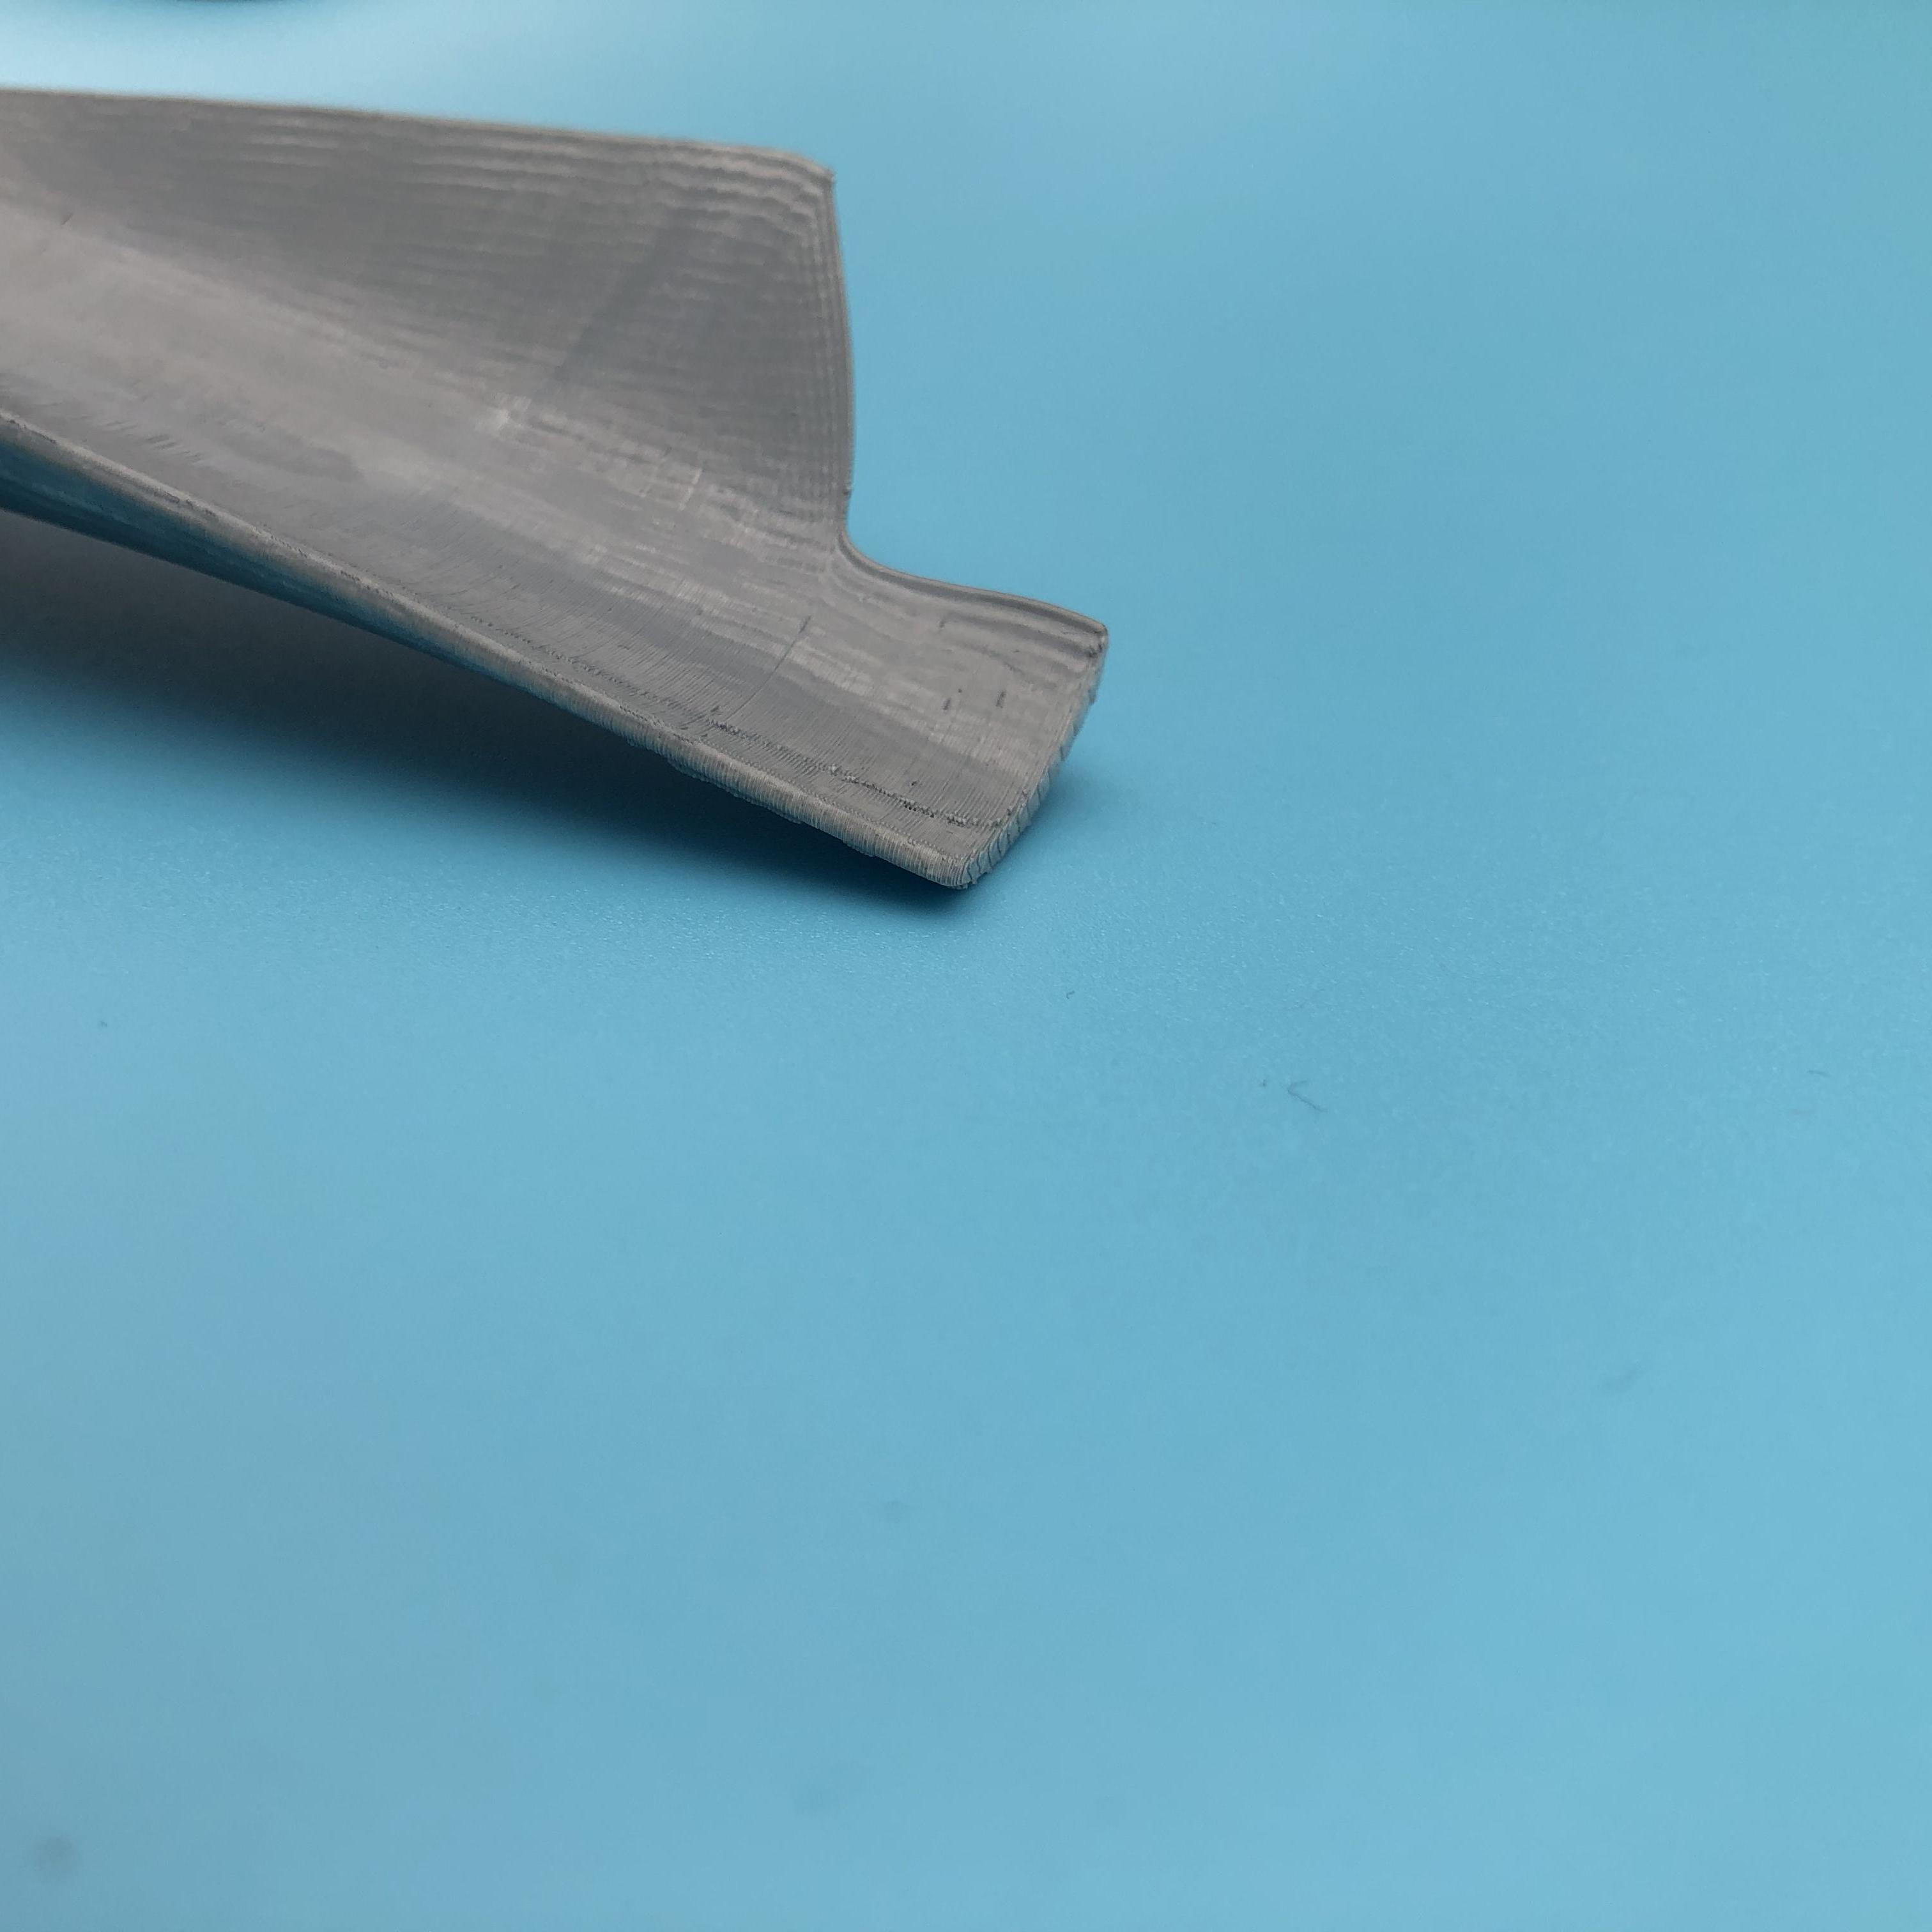fracture: (794, 195, 1100, 656)
